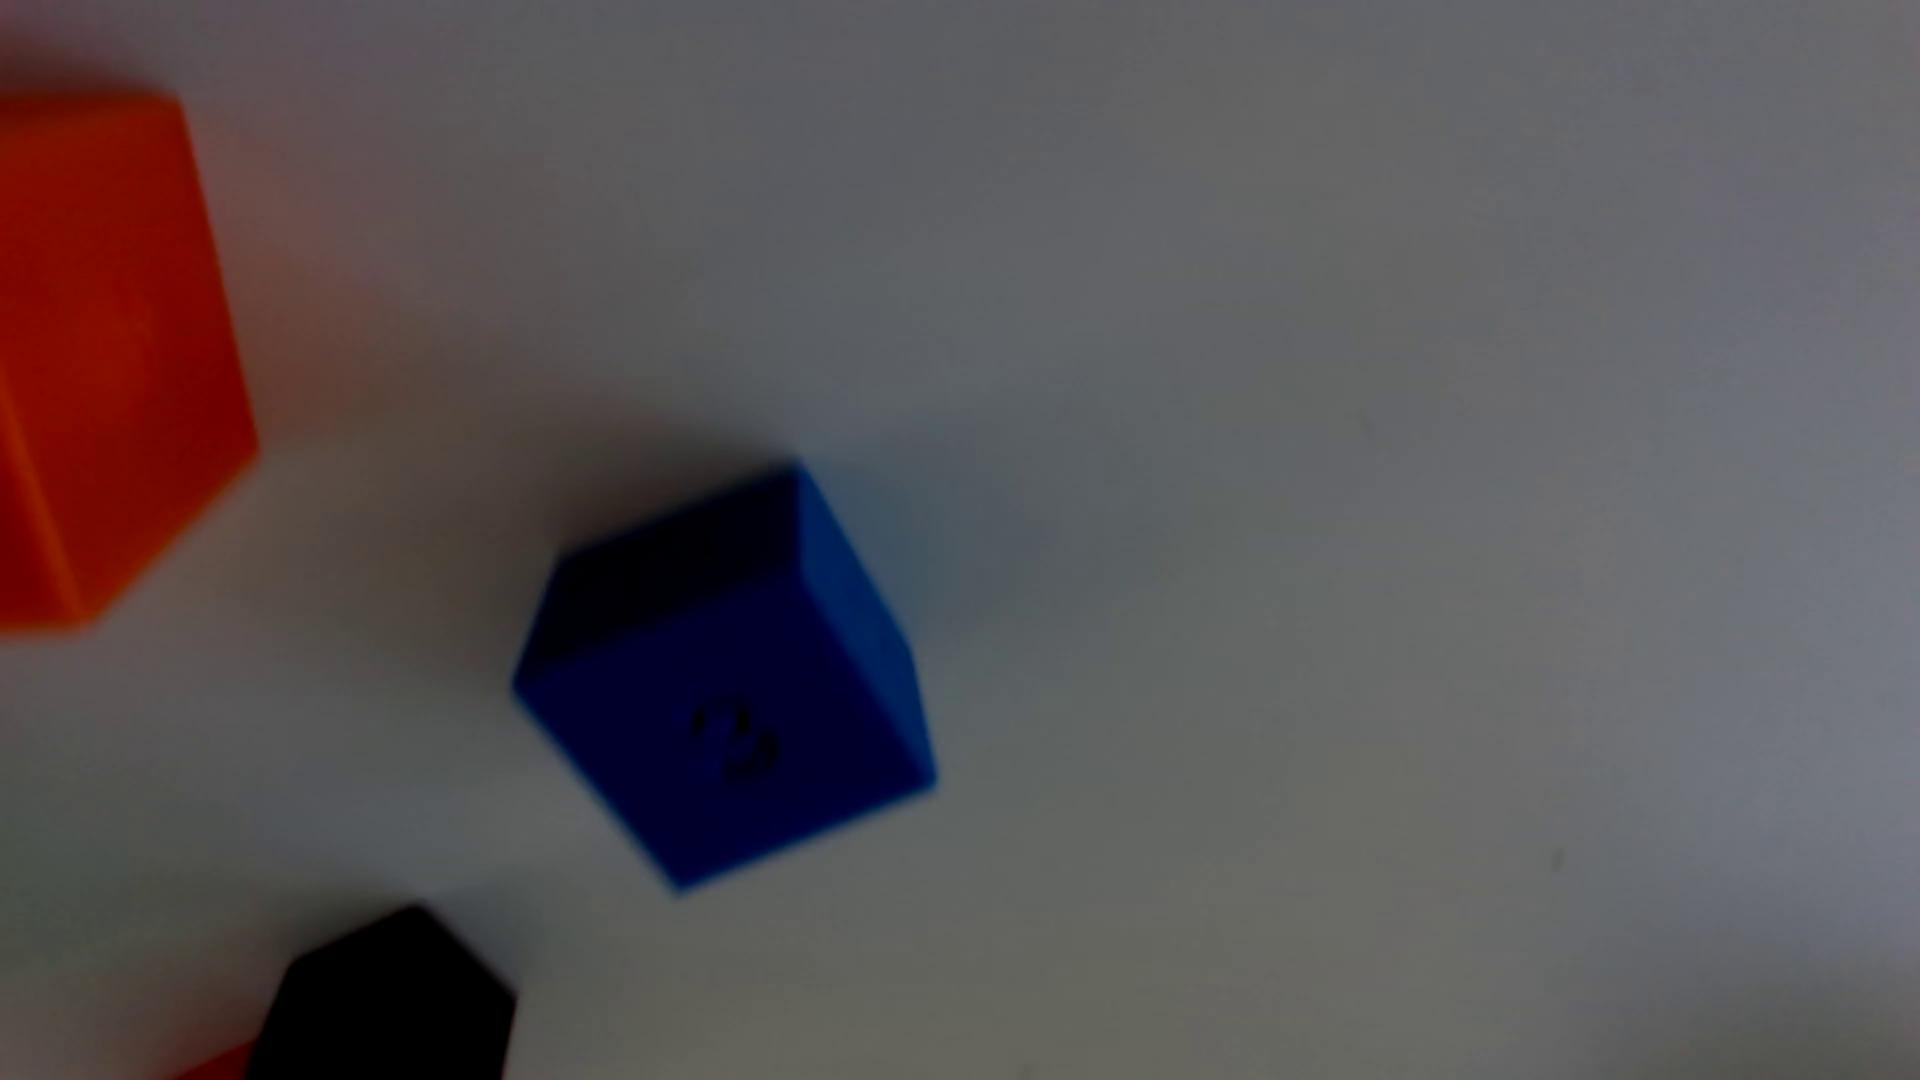black: (245, 906, 517, 1080)
blue: (513, 468, 936, 889)
orange: (0, 92, 258, 636)
red: (175, 1044, 252, 1080)
